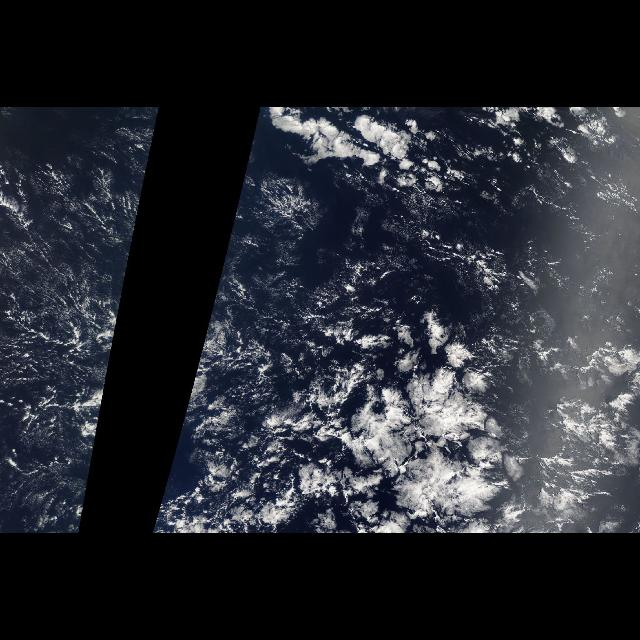Flower: (255, 109, 639, 534)
Sugar: (2, 109, 158, 531), (195, 146, 279, 372), (151, 500, 161, 532)
